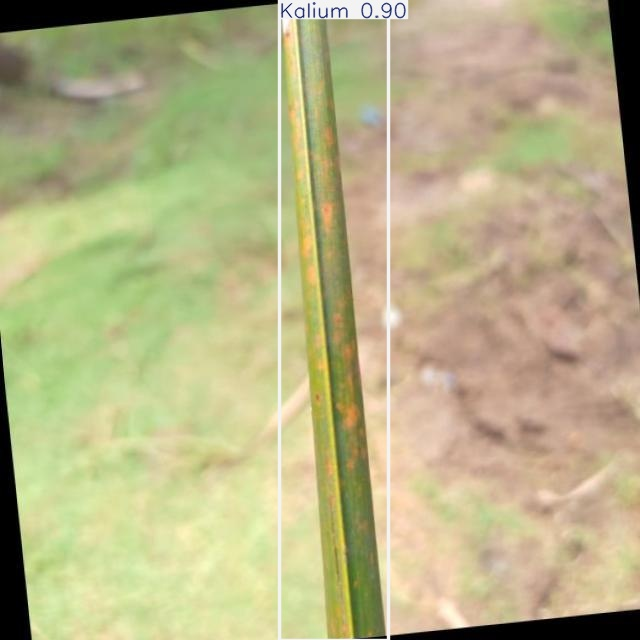Kalium: (279, 0, 389, 640)
